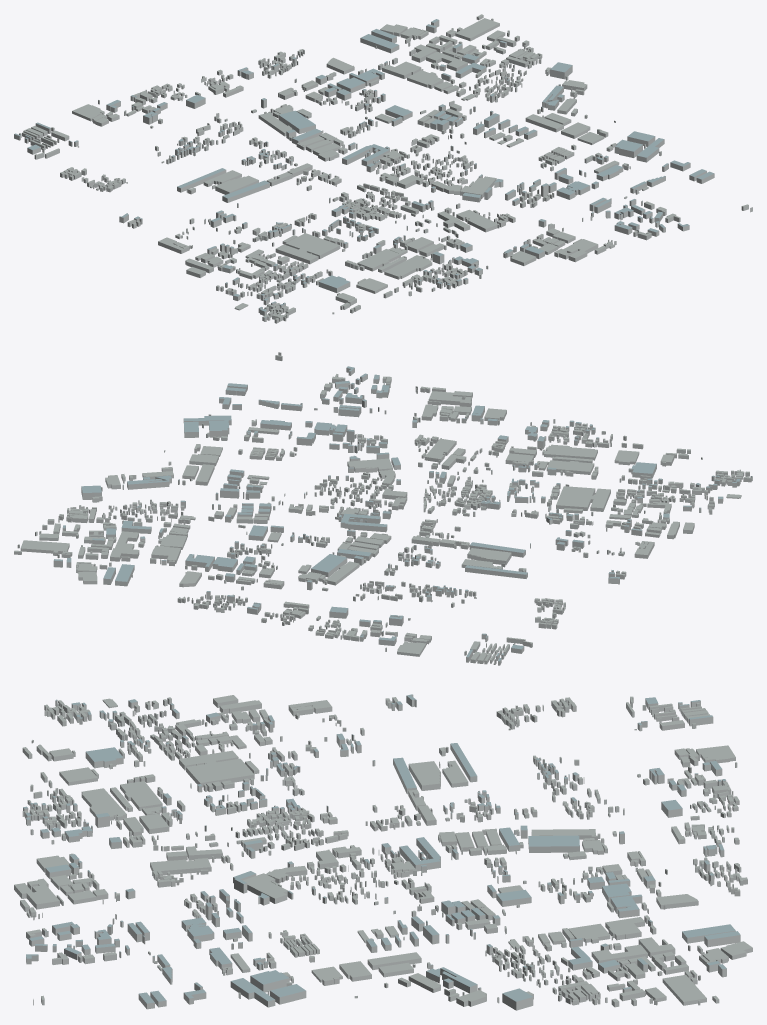
3 views of the same model, one above another, from view 1: azimuth 30°, elevation 25°; view 2: azimuth 150°, elevation 25°; view 3: azimuth 270°, elevation 25° (orthographic). The views are drawn at different scales.
Parts seen in each view (by area): view 1: 上海全域建筑分块 · mapped building neighborhood; view 2: 上海全域建筑分块 · mapped building neighborhood; view 3: 上海全域建筑分块 · mapped building neighborhood.
Part boxes in pixels (<box>): 上海全域建筑分块 · mapped building neighborhood: <box>14,14,752,323</box>; 上海全域建筑分块 · mapped building neighborhood: <box>14,352,752,665</box>; 上海全域建筑分块 · mapped building neighborhood: <box>14,694,752,1010</box>.
Size of the model in its own units: 2147 by 43.94 by 2155.
